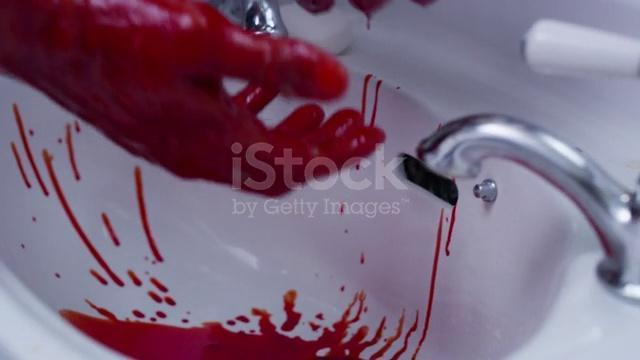Fire: (0, 1, 385, 195), (60, 206, 456, 360), (41, 149, 124, 286), (12, 103, 48, 195), (133, 166, 163, 262), (350, 0, 390, 28), (64, 121, 80, 180), (10, 141, 30, 188), (223, 314, 259, 334), (362, 73, 374, 122), (102, 212, 119, 246), (370, 79, 382, 126), (132, 309, 170, 322), (147, 290, 175, 306), (297, 0, 334, 12), (89, 270, 108, 286), (149, 278, 168, 292), (127, 270, 141, 286), (413, 0, 436, 6), (341, 202, 349, 214), (360, 252, 366, 264)
